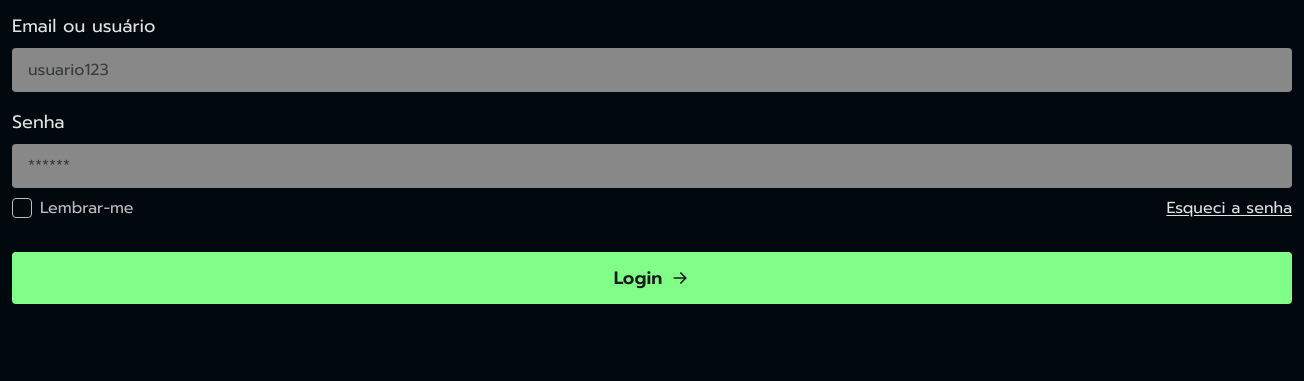
it: LoginForm › clears a field error once the user edits that field
Click the button "Login".
click(652, 278)  # box [12,252,1292,304]
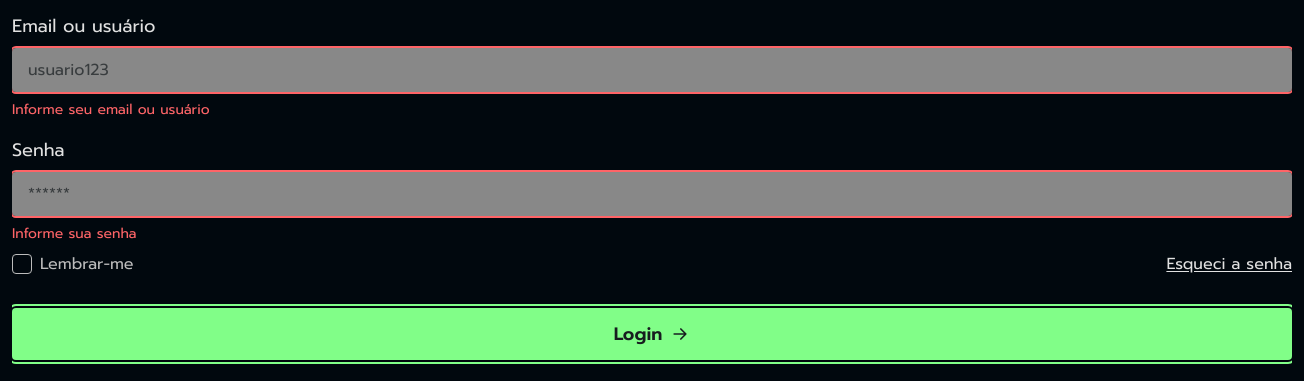
Type "u" into the field labelled "Email ou usuário".
click(652, 70); type("u")  # box [12,48,1292,92]
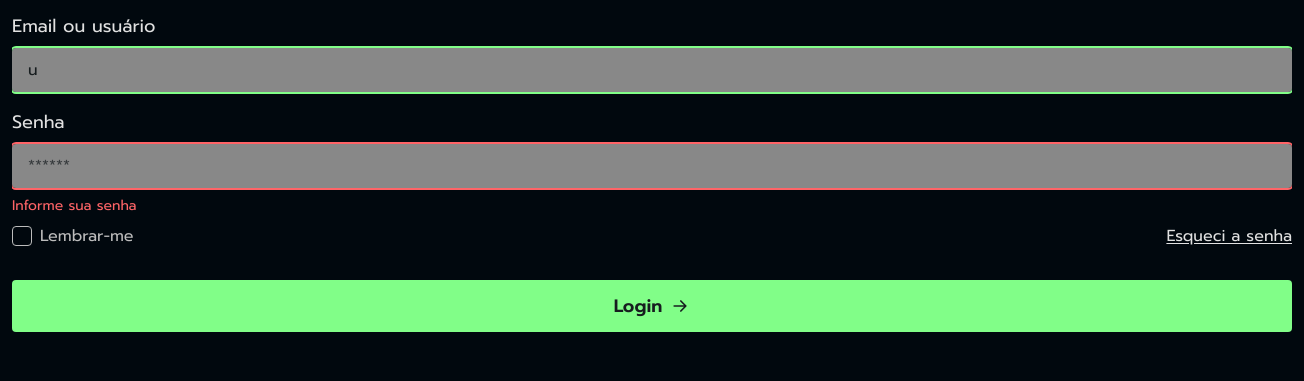
Expected: the text "Informe sua senha" is shown, [12,195,136,216]
Expected: the text "Informe seu email ou usuário" is gone
